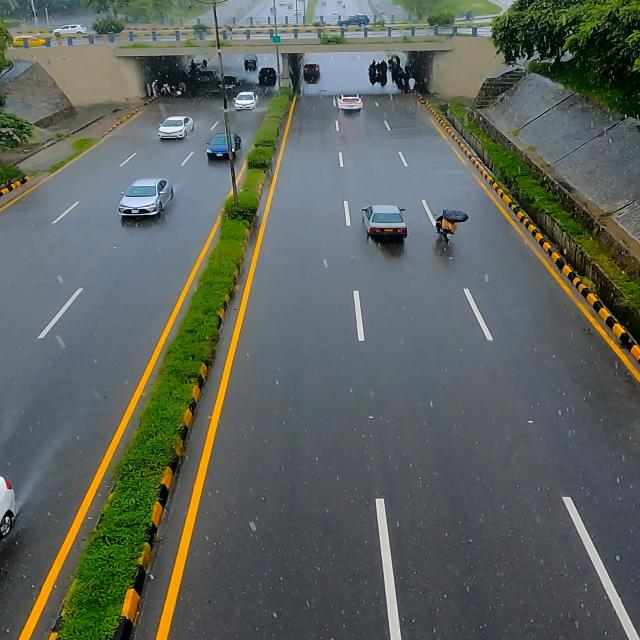Car: (111, 178, 170, 221), (358, 202, 406, 248), (198, 131, 242, 163), (156, 111, 197, 143), (329, 90, 364, 114)
